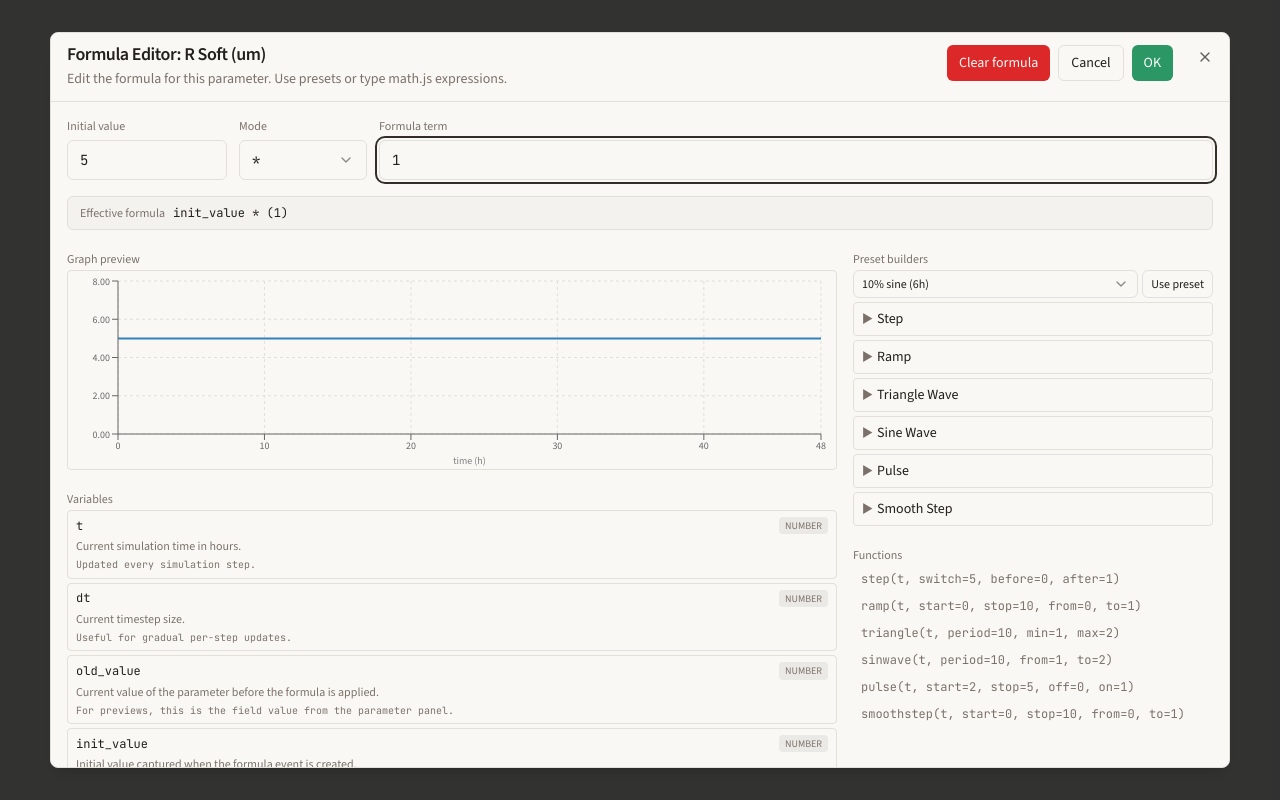
Test: FormulaEditorDialog › blocks saving when the initial value violates the parameter minimum
Replace the text in the number field labelled "Initial value" with "-1" at [147, 160], box [67,140,227,180]
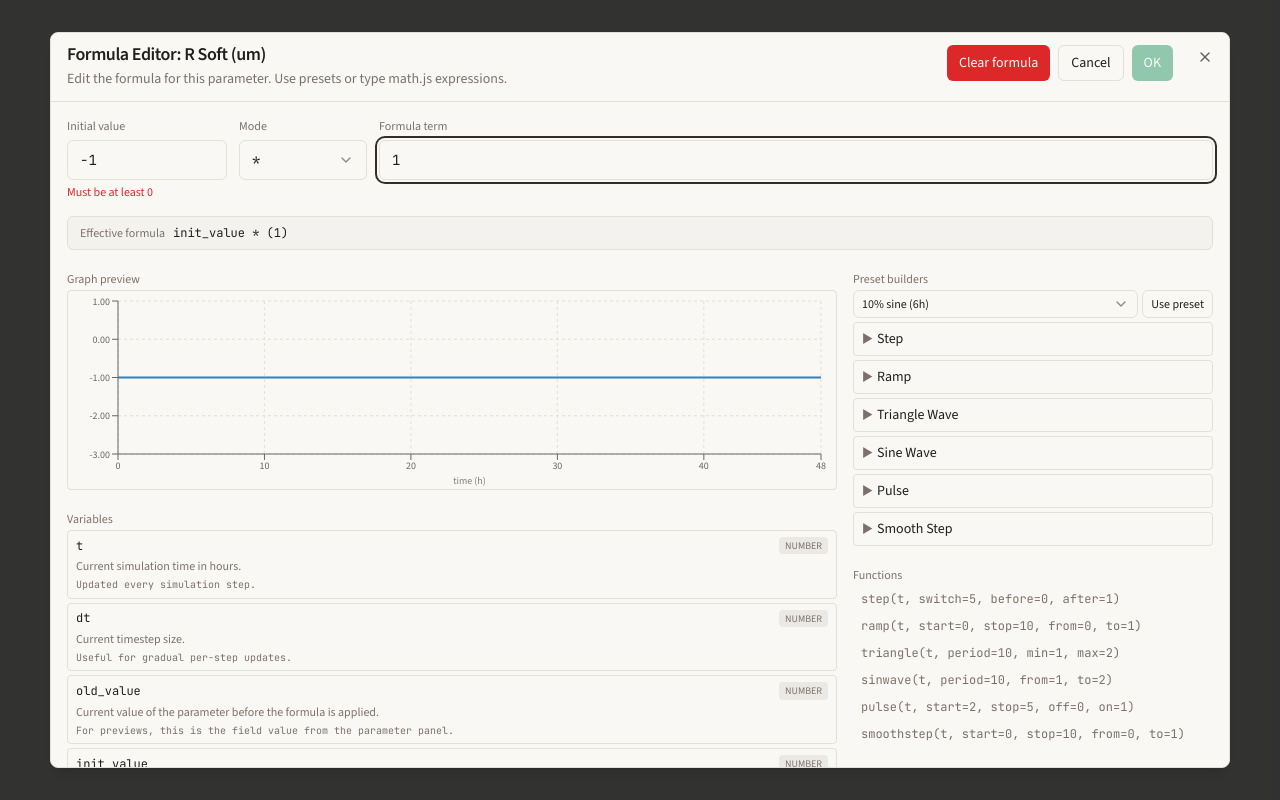
Check: the text "Must be at least 0" is shown, box [67,184,153,200]
Check: the button "OK" is disabled, box [1132,45,1173,81]
